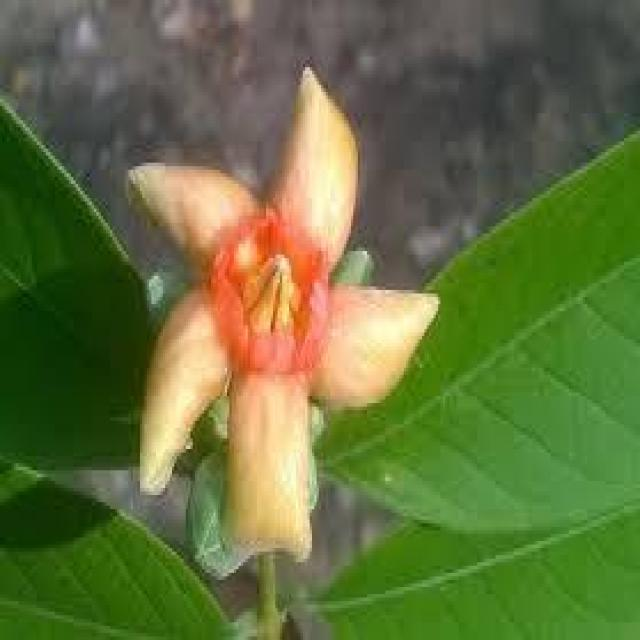organic waste: (119, 50, 436, 555)
